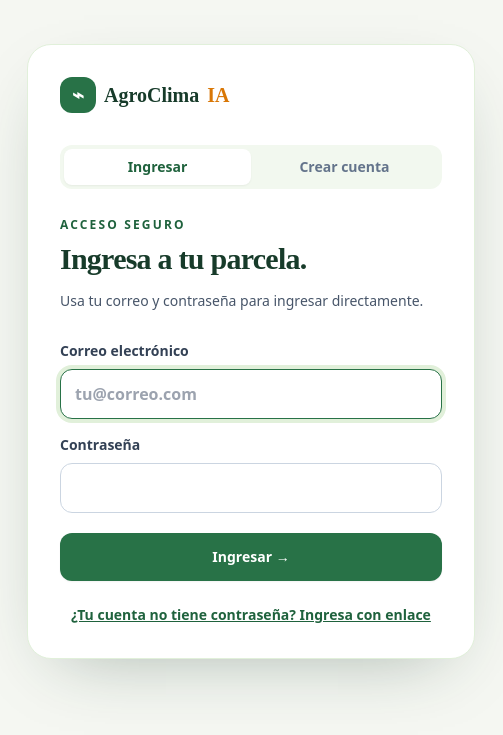
it: Login › no expone el detalle de un error de credenciales
Type "usuario@oxitech.dev" into the field labelled "Correo electrónico" at (251,394), box [60,368,442,418]
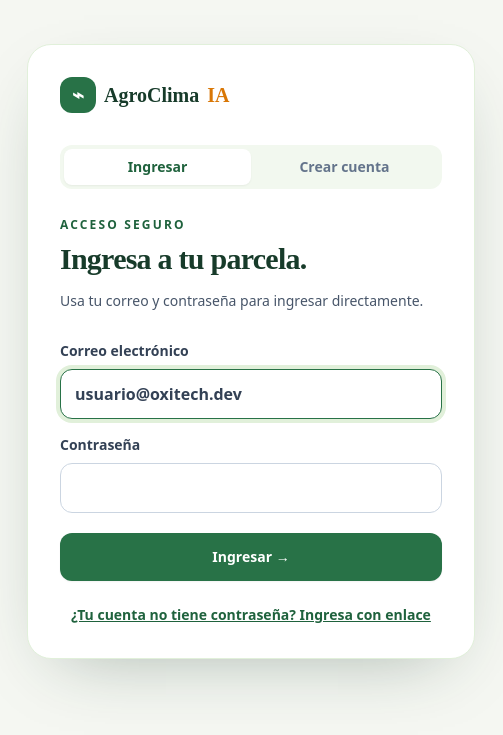
Type "secreto" into the password field labelled "Contraseña" at (251,488), box [60,462,442,512]
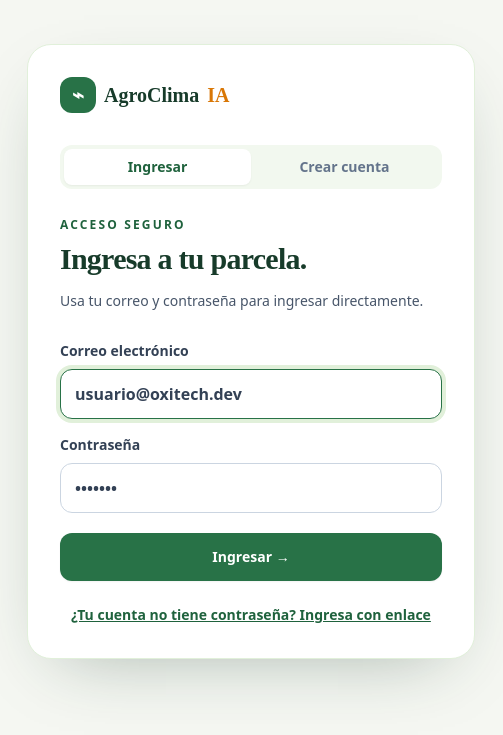
Click the button "Ingresar →" at (251,556), box [60,532,442,580]
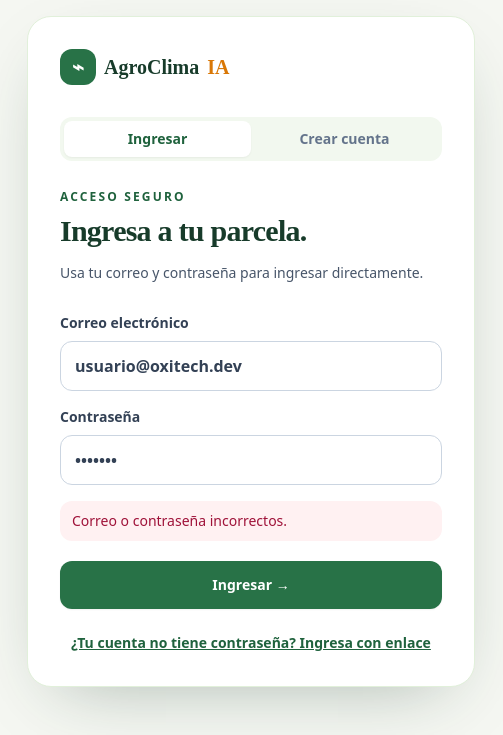
Expected: the text "Correo o contraseña incorrectos." is shown, [60,500,442,540]
